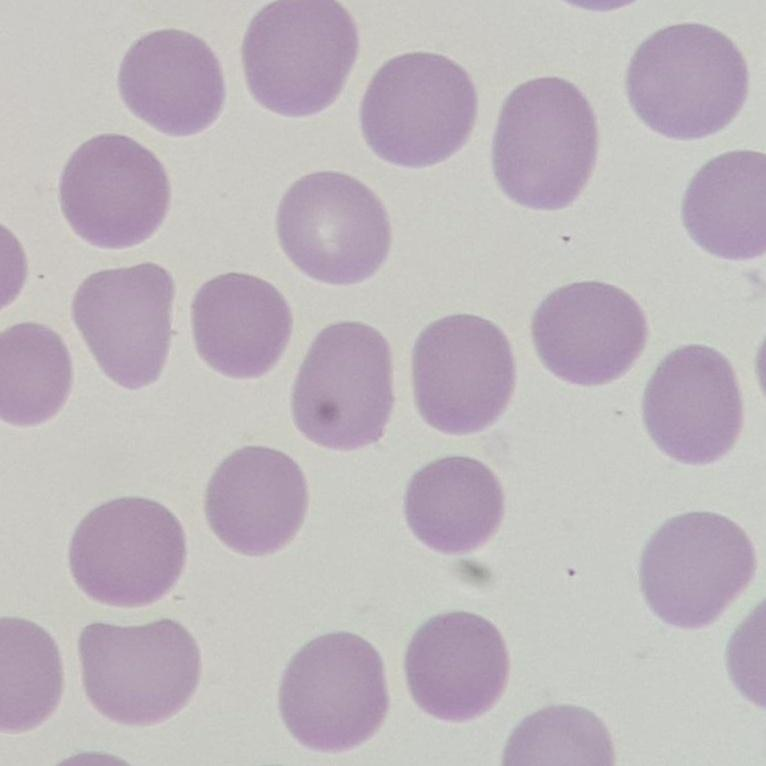Uninfected: (492, 77, 605, 214), (640, 509, 759, 629), (72, 619, 199, 731), (64, 493, 185, 610), (246, 0, 362, 122), (630, 19, 746, 140), (294, 319, 397, 449), (274, 169, 390, 282), (534, 277, 650, 388), (412, 315, 517, 437), (640, 341, 743, 465), (58, 137, 175, 245), (76, 265, 177, 389), (366, 51, 474, 166), (188, 275, 295, 382), (120, 29, 226, 137), (206, 445, 309, 556), (280, 633, 381, 745), (408, 615, 513, 721), (406, 453, 506, 553), (680, 149, 766, 261)
